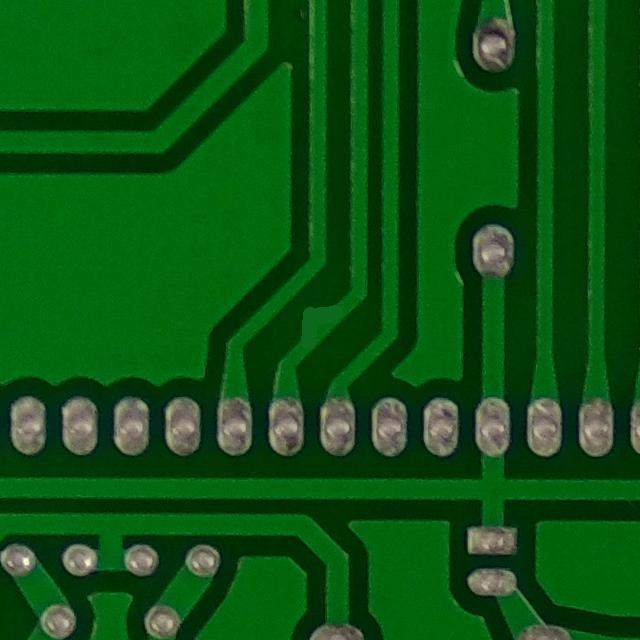spur: (290, 286, 350, 355)
